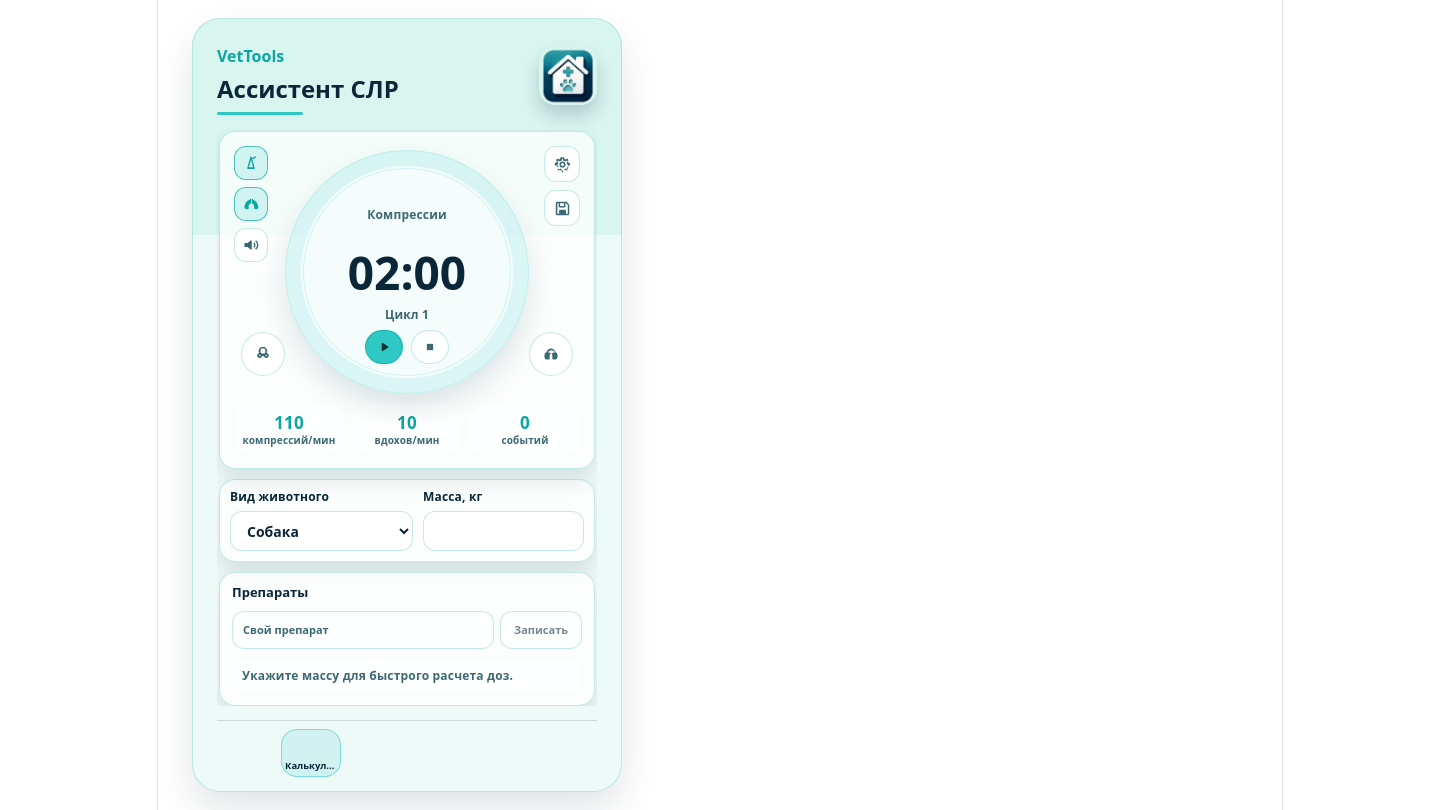
Scenario: CprCoachPage › starts a new two-minute compression cycle after defibrillation
Click the button named "Старт таймера СЛР" at coordinates (384, 347), box [365,330,403,364]
Wait 30000 ms
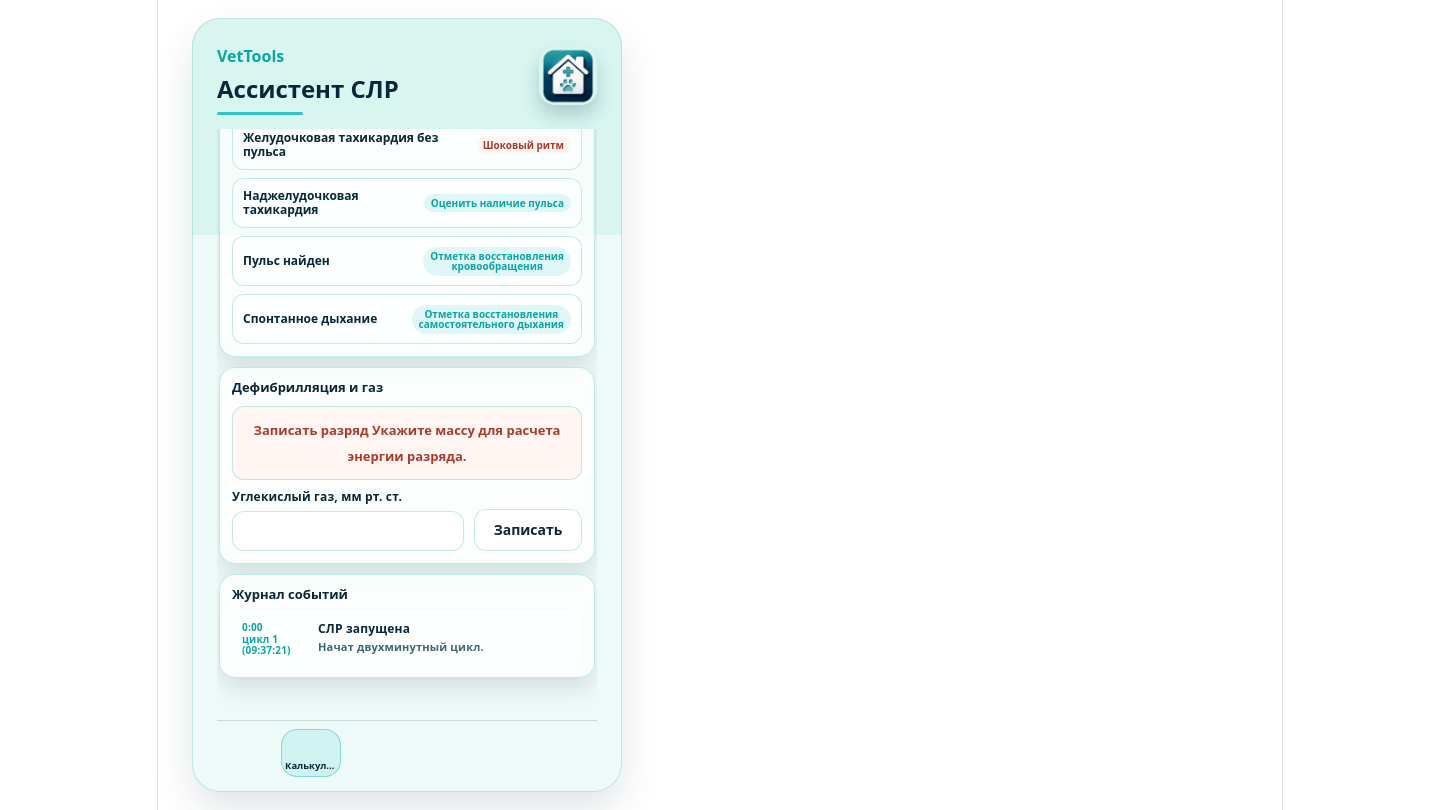
Click the button "Записать разряд Укажите массу для расчета энергии разряда." at coordinates (313, 430), box [232,406,582,480]
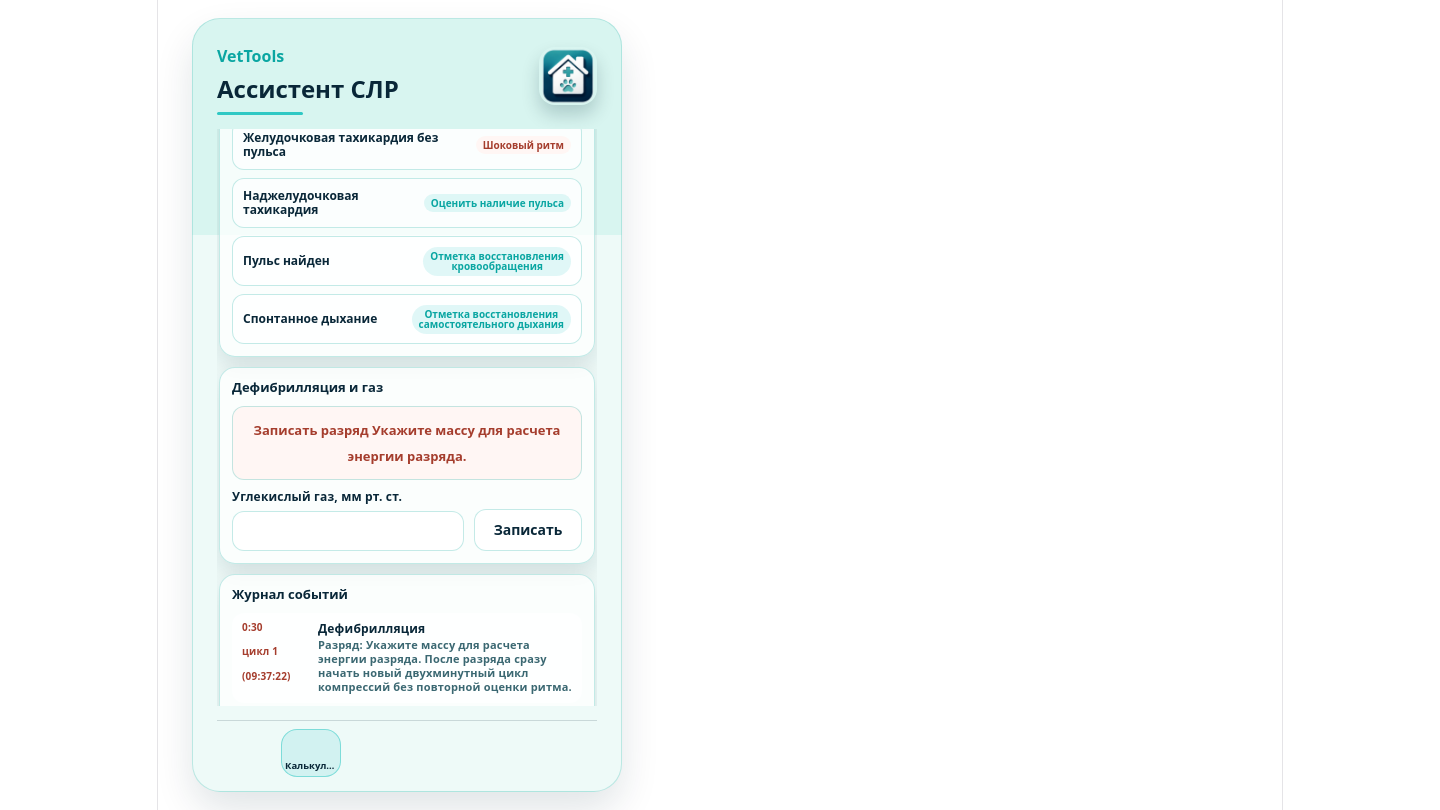
Expected: the text "цикл 1" is shown, [242,644,278,658]
Expected: the text "Дефибрилляция" is shown, [318,620,425,637]
Expected: the text "сразу начать новый двухминутный цикл компрессий" is shown, [318,637,572,694]
